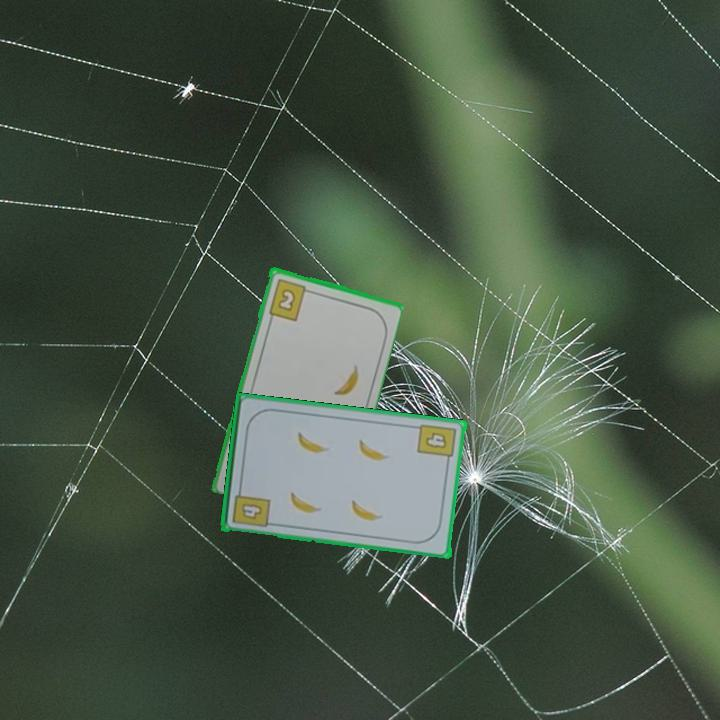2b: (265, 275, 314, 323)
4b: (415, 420, 460, 467), (229, 483, 273, 530)
